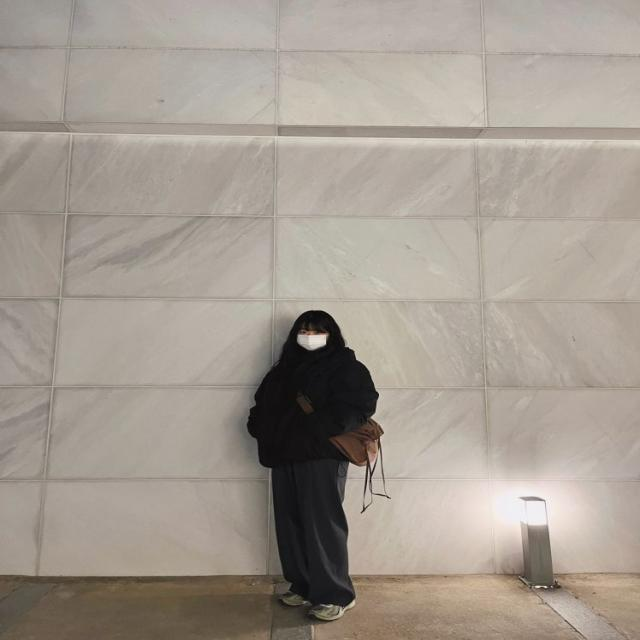padding: (247, 342, 380, 464)
slacks: (276, 453, 353, 608)
